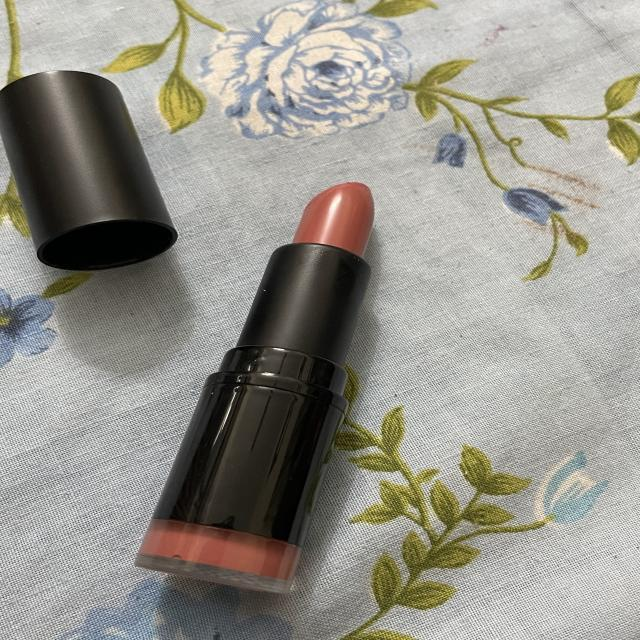lip stick: (136, 160, 418, 600)
